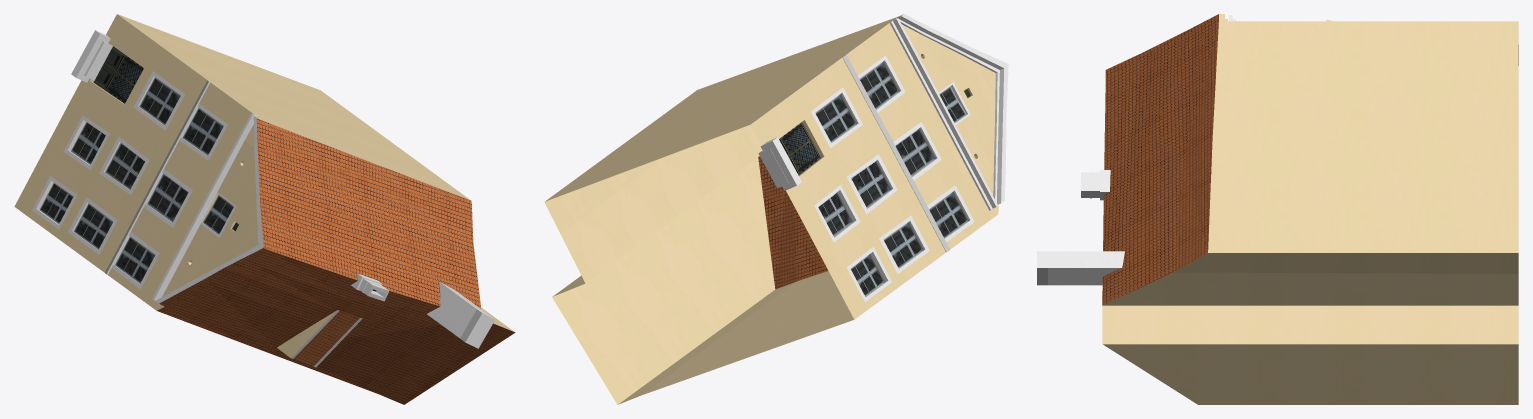
The model's file is Lai_42.obj.
3 views of the same model, side by side, from view 1: azimuth 30°, elevation 25°; view 2: azimuth 150°, elevation 25°; view 3: azimuth 270°, elevation 25° (orthographic). The views are drawn at different scales.
Parts seen in each view (by area): view 1: Lai_42; view 2: Lai_42; view 3: Lai_42.
Part boxes in pixels (left/top/right/bottom): Lai_42: left=14, top=14, right=515, bottom=404; Lai_42: left=544, top=14, right=1008, bottom=404; Lai_42: left=1037, top=14, right=1518, bottom=404.
Size of the model in its own units: 13.12 by 12.73 by 17.26.
